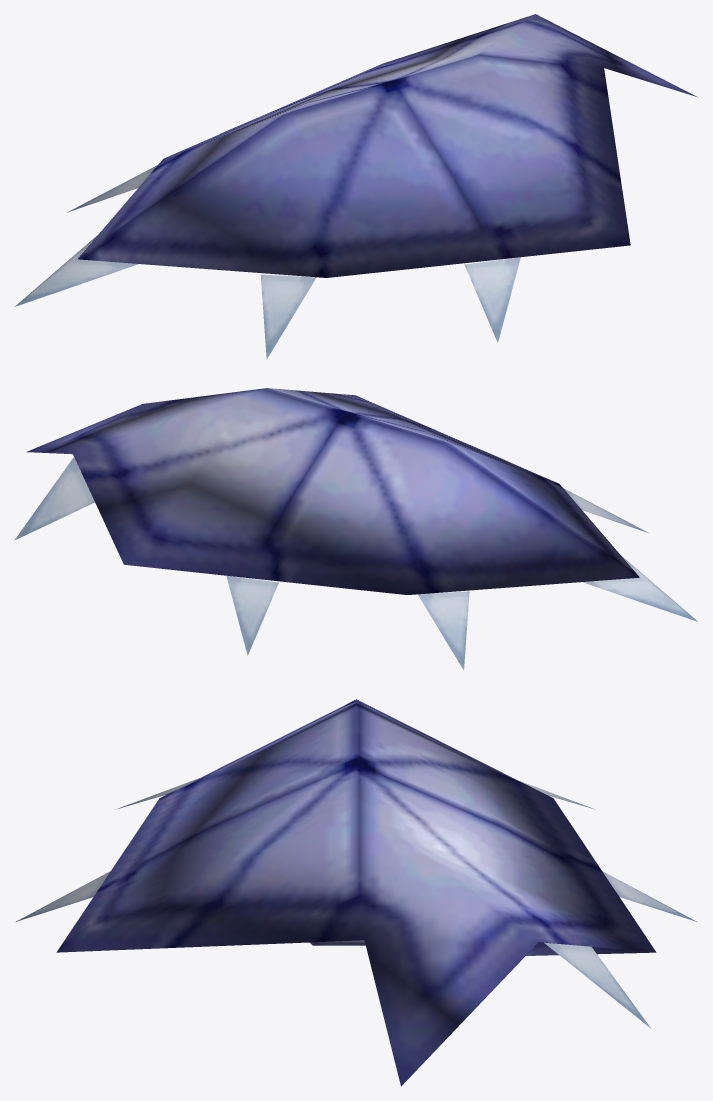
File: item_armshiturtle.glb
3 renders of one model, top to bottom at view 1: azimuth 30°, elevation 25°; view 2: azimuth 150°, elevation 25°; view 3: azimuth 270°, elevation 25°, orthographic. The views are drawn at different scales.
Parts seen in each view (by area): view 1: item_0; view 2: item_0; view 3: item_0.
Boxes of the visible parts, x1,y1,x2,y2 form: item_0: (14,14,697,359); item_0: (14,388,697,670); item_0: (16,699,696,1086).
Size of the model in its own units: 0.8237 by 0.1788 by 0.5746.
Materials: 1 (1 with a texture image).
